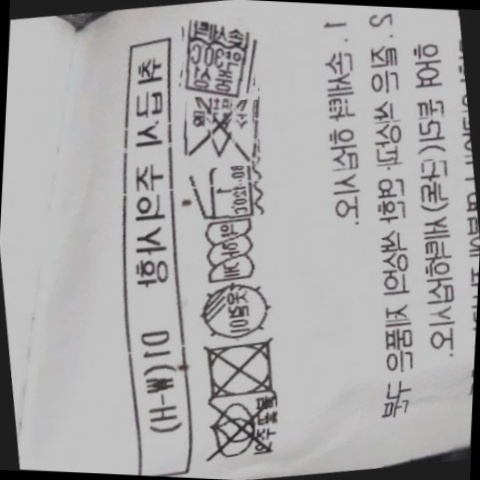DN_tumble_dry: (198, 334, 285, 402)
hand_wash: (177, 22, 259, 96)
iron_low: (191, 161, 261, 223)
line_dry_in_shade: (194, 281, 276, 341)
wring: (202, 217, 260, 286)
